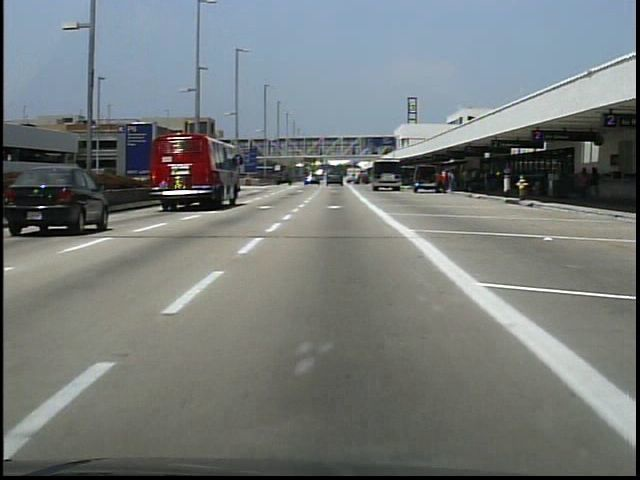person: (437, 170, 449, 198)
